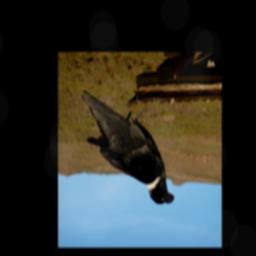Crow: (82, 90, 176, 208)
